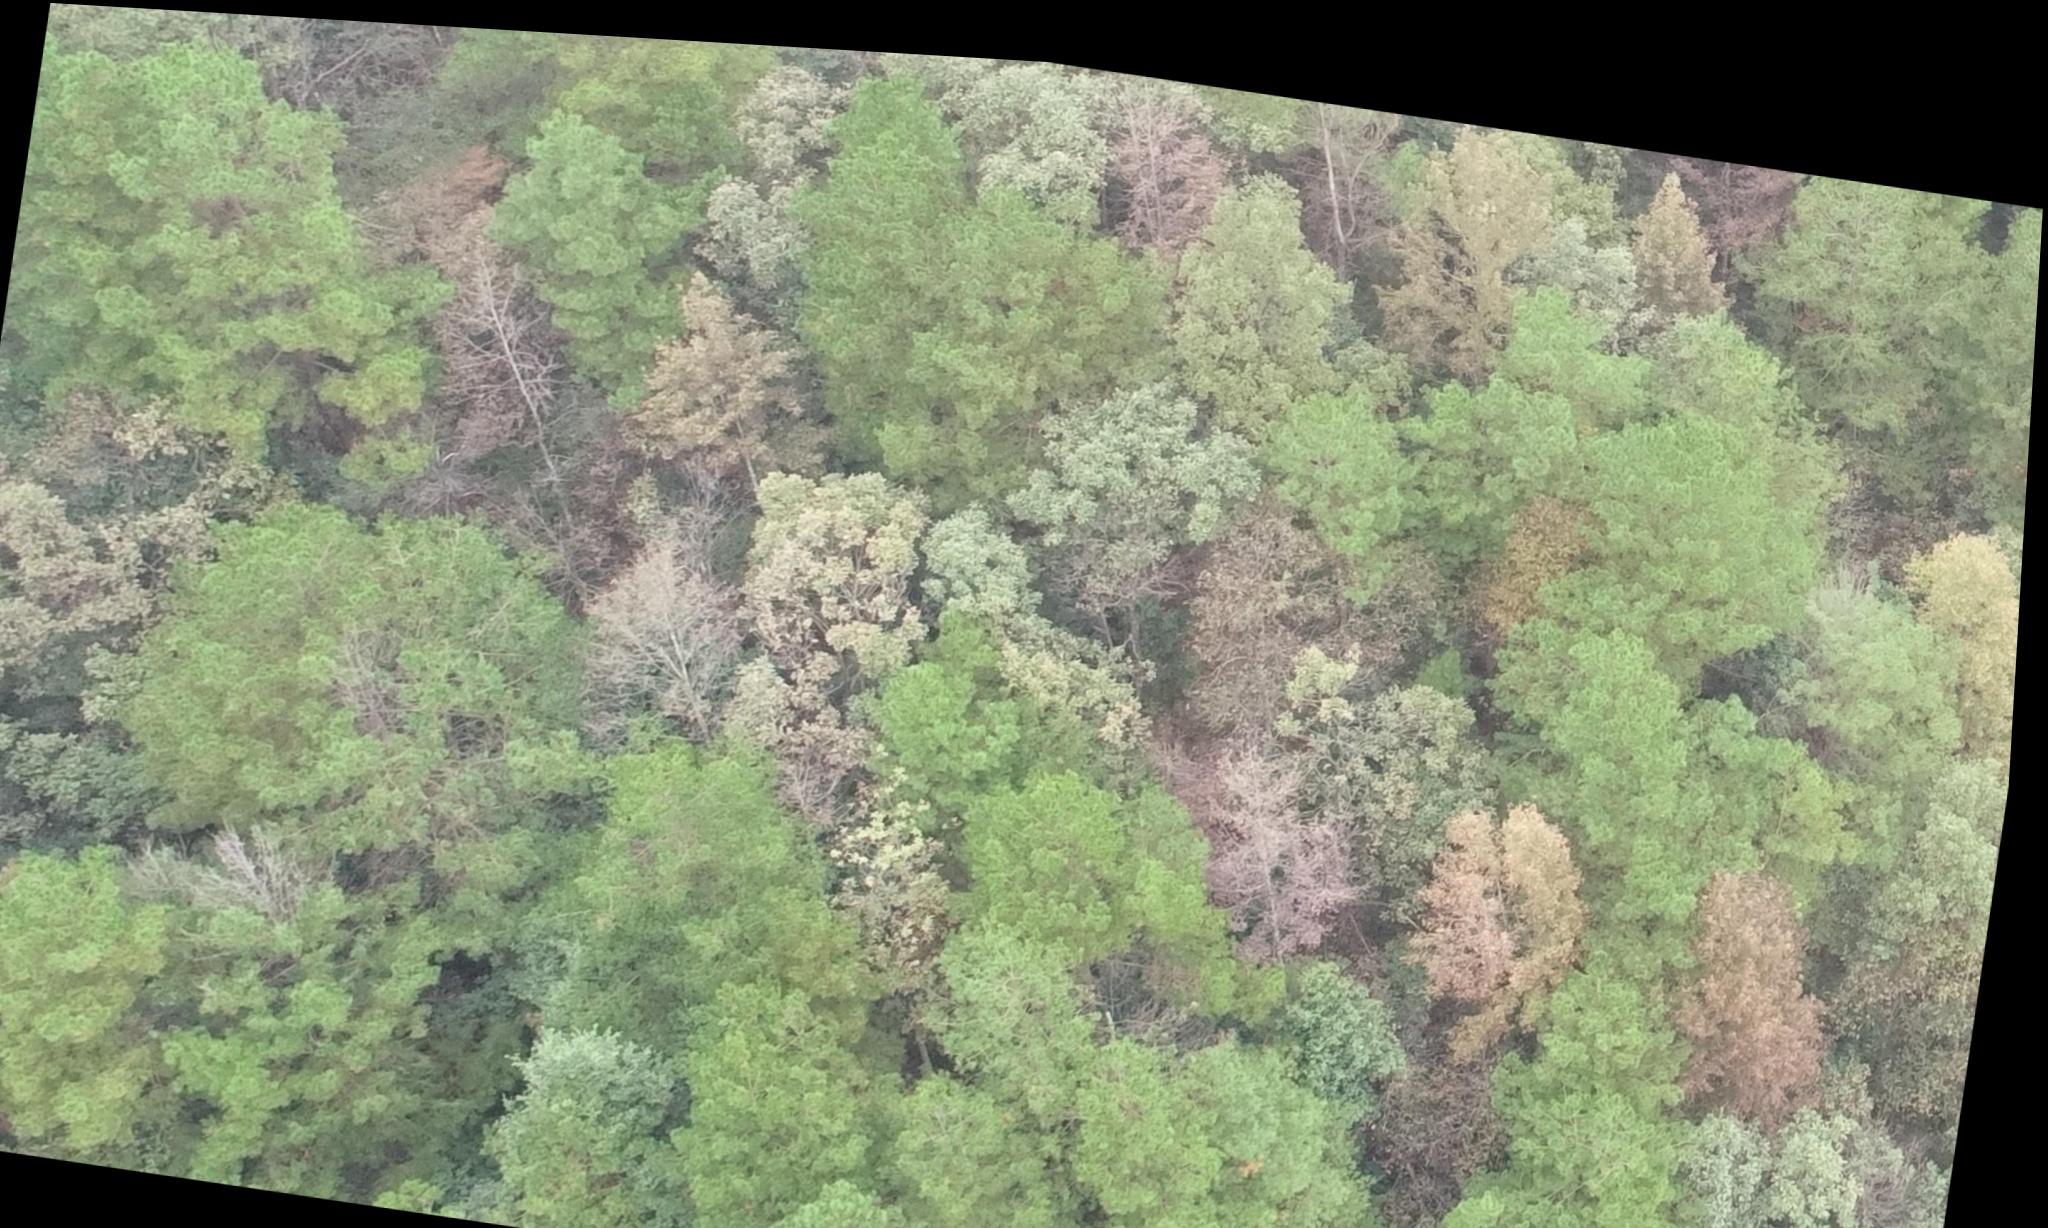dead: (330, 145, 639, 541), (595, 535, 747, 776)
heavy: (1658, 841, 1892, 1143), (1405, 748, 1618, 1069)
